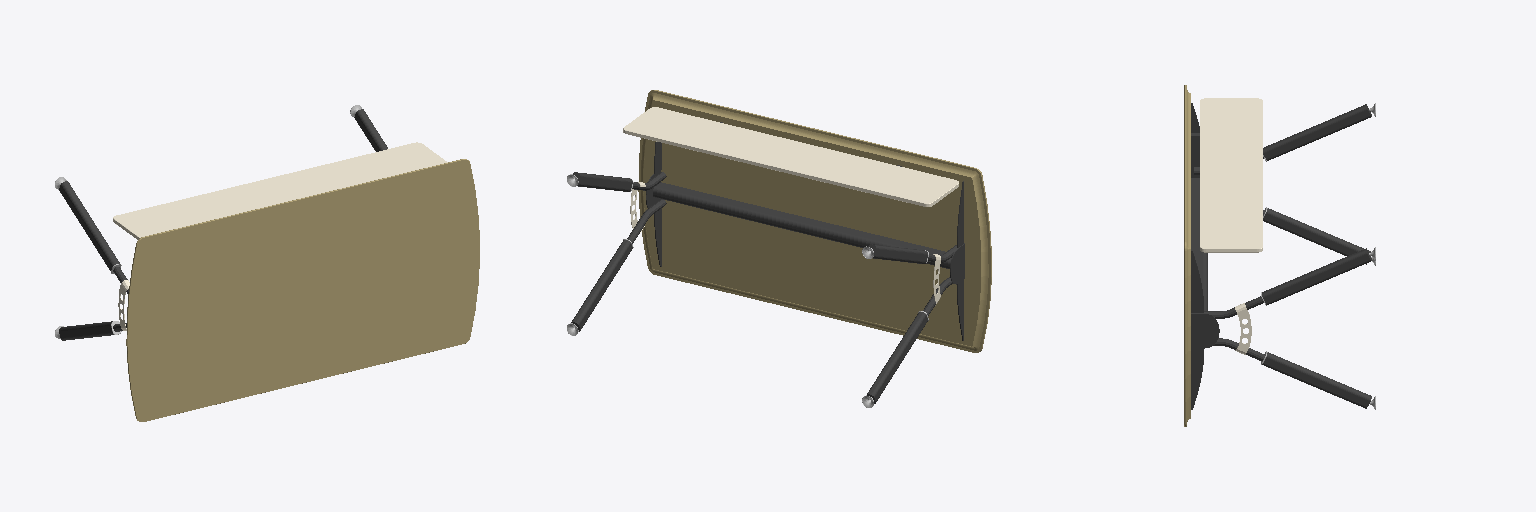
Rendered from table_ikea.obj.
3 views of the same model, side by side, from view 1: azimuth 30°, elevation 25°; view 2: azimuth 150°, elevation 25°; view 3: azimuth 270°, elevation 25° (orthographic).
Visible parts, largest first — view 1: __________, Rectangl10, Rectangle8, Rectangle6, Rectangle3; view 2: __________, Rectangl10, _05, Rectangle6, Rectangle1, Rectangle3, Rectangle8; view 3: Rectangl10, __________, Rectangle3, Rectangle8, Rectangle1, Rectangle6, _05, Rectangle9, Line514, Line515.
Part boxes in pixels (x1,y1,x2,y2): __________: (126,159,479,421); Rectangl10: (113,142,447,239); Rectangle8: (59,181,119,270); Rectangle6: (59,321,113,340); Rectangle3: (354,109,387,151); __________: (638,90,991,352); Rectangl10: (623,107,958,206); _05: (653,182,951,268); Rectangle6: (867,312,927,403); Rectangle1: (571,240,632,331); Rectangle3: (573,172,632,191); Rectangle8: (868,244,927,263); Rectangl10: (1200,98,1262,252); __________: (1184,85,1190,426); Rectangle3: (1262,248,1371,304); Rectangle8: (1263,104,1371,160); Rectangle1: (1262,352,1371,408); Rectangle6: (1263,208,1370,264); _05: (1191,178,1207,310); Rectangle9: (1191,313,1219,348); Line514: (1191,251,1203,312); Line515: (1191,349,1203,409).
Bounding box in the file's own units: 1600 × 801 × 750.